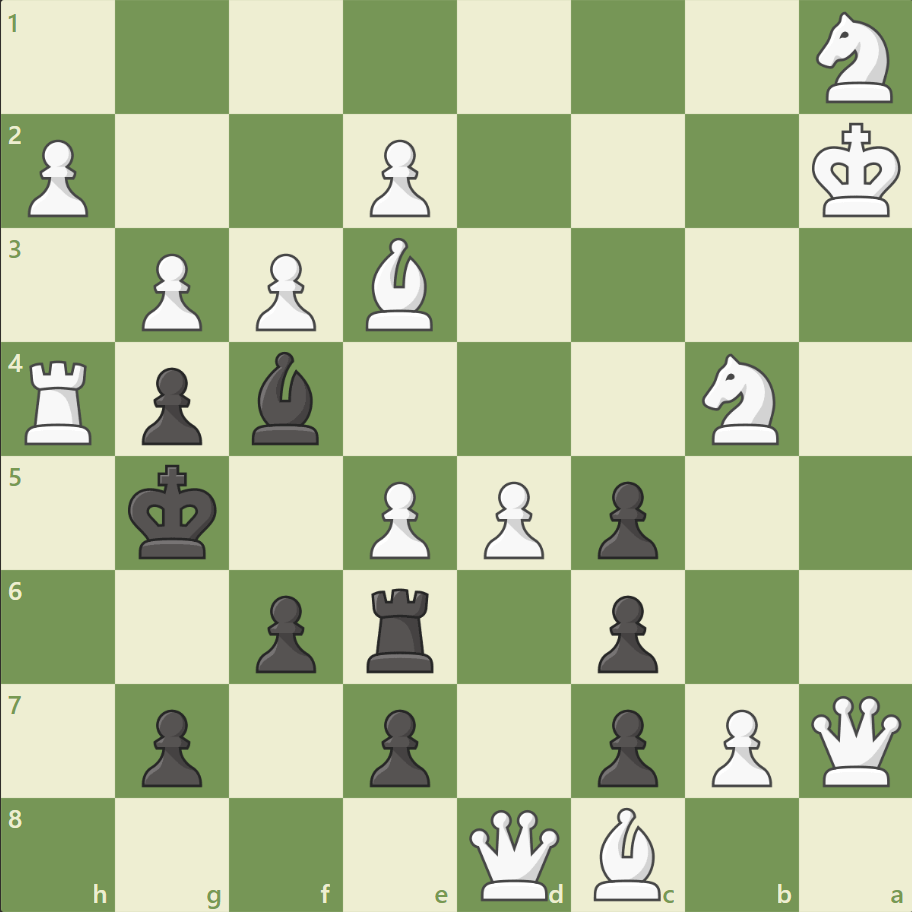B: (585, 801, 669, 904), (358, 233, 442, 336)
K: (806, 117, 906, 225)
N: (806, 7, 903, 110), (692, 348, 789, 450)
P: (701, 700, 776, 791), (474, 473, 549, 564), (247, 246, 322, 337), (133, 246, 208, 337), (20, 132, 95, 223), (361, 473, 435, 564), (361, 132, 435, 223)
Q: (464, 804, 563, 903), (805, 690, 904, 789)
R: (19, 352, 102, 449)
b: (244, 347, 328, 449)
k: (124, 458, 224, 566)
p: (133, 700, 208, 791), (247, 586, 322, 677), (133, 359, 208, 450), (588, 700, 662, 791), (361, 700, 435, 791), (588, 586, 662, 677), (588, 473, 662, 564)
r: (360, 579, 442, 676)
